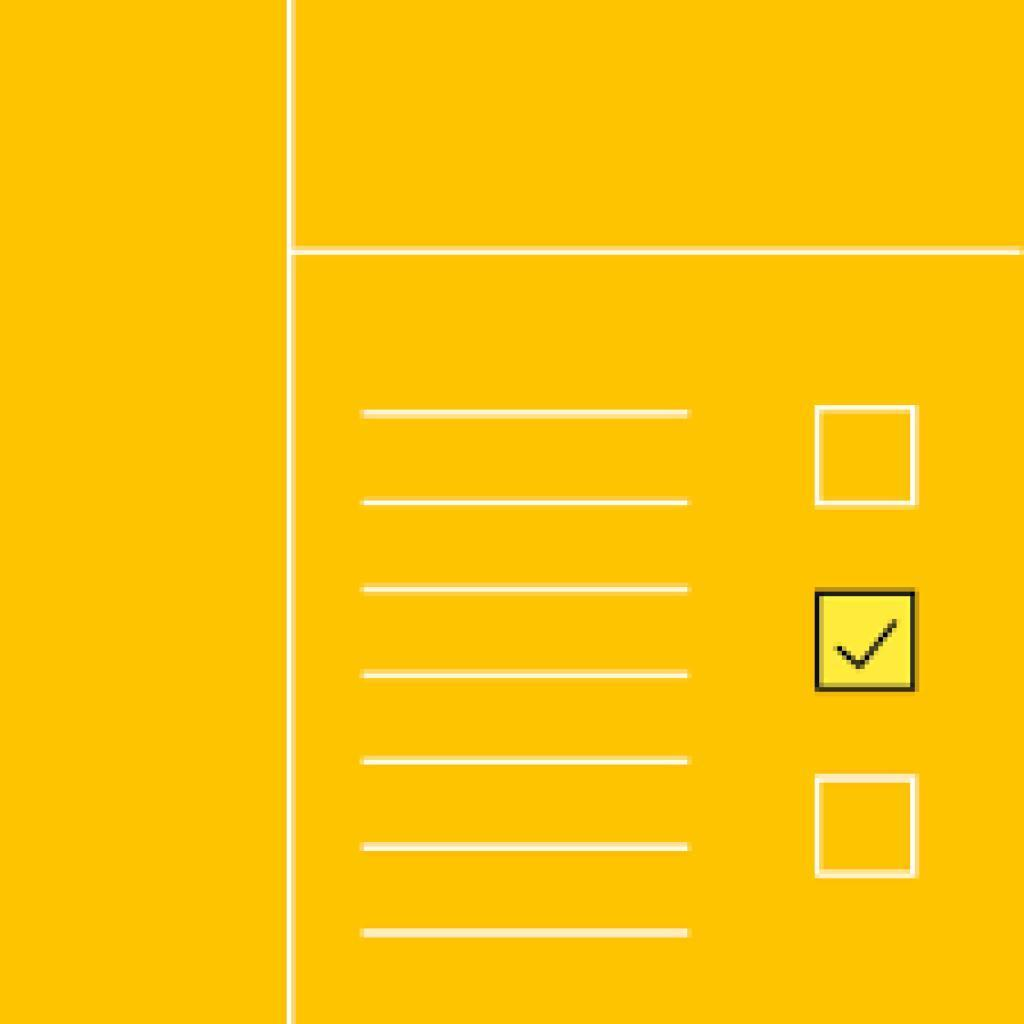checkbox: (813, 778, 917, 876), (814, 407, 920, 503), (818, 595, 917, 693)
